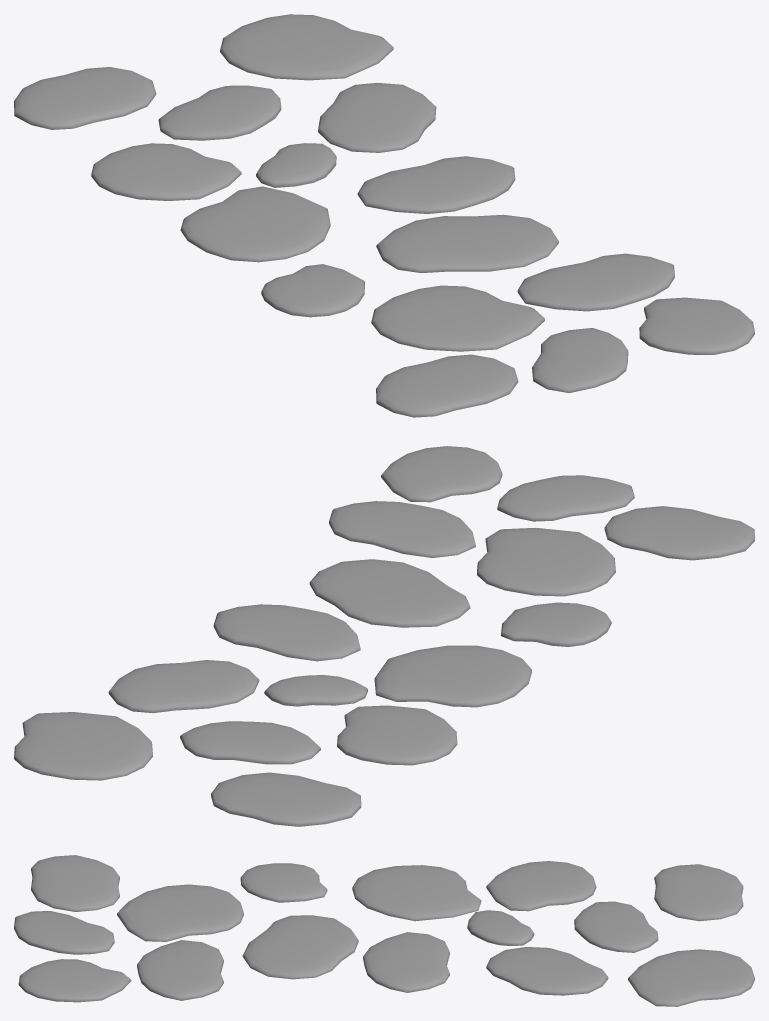
The model's file is Town_1_Path_1.glb.
3 renders of one model, top to bottom at view 1: azimuth 30°, elevation 25°; view 2: azimuth 150°, elevation 25°; view 3: azimuth 270°, elevation 25°, orthographic. The views are drawn at different scales.
Parts seen in each view (by area): view 1: Town_1_Path_1; view 2: Town_1_Path_1; view 3: Town_1_Path_1.
Boxes of the visible parts, left/top/right/bottom form: Town_1_Path_1: left=14, top=14, right=754, bottom=417; Town_1_Path_1: left=14, top=446, right=754, bottom=826; Town_1_Path_1: left=14, top=855, right=754, bottom=1006.
Bounding box in the file's own units: 2.45 × 0.0486 × 5.14.
1 material, 1 textured.
